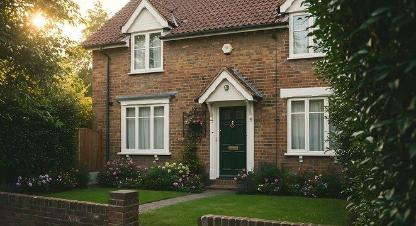tree: (210, 102, 252, 184)
